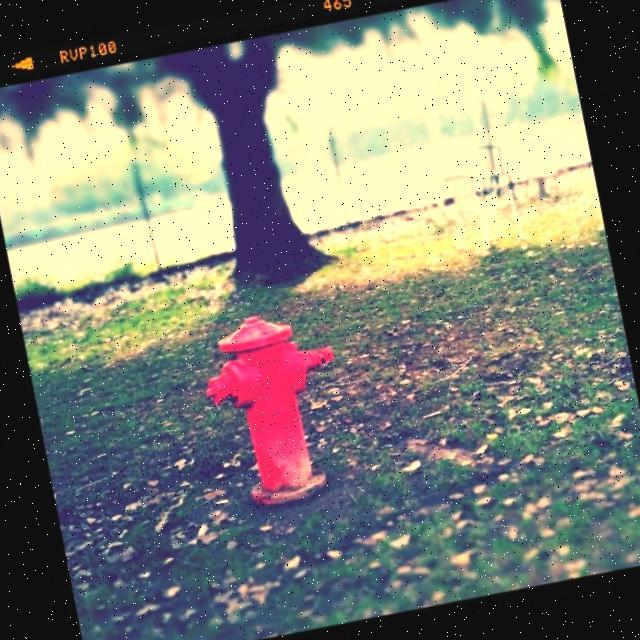fire_hydrant: (194, 303, 361, 511)
